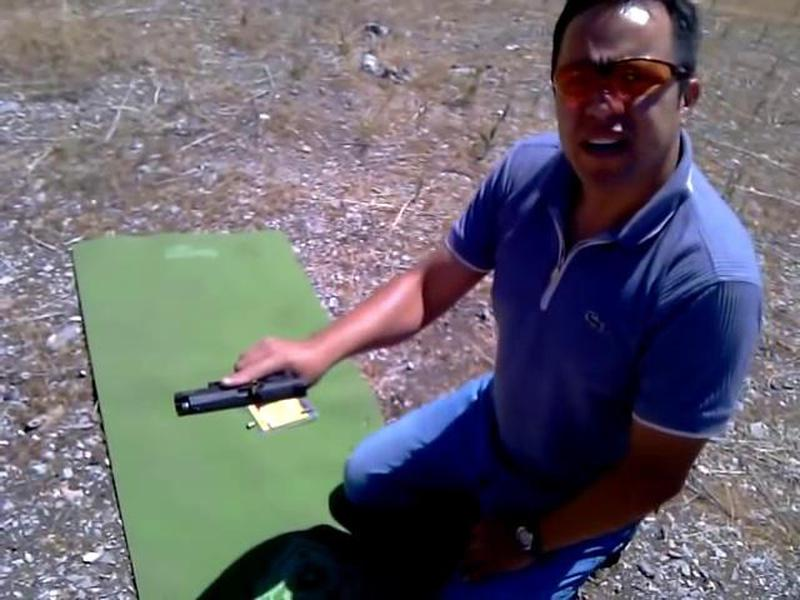Pistola: (145, 337, 331, 445)
